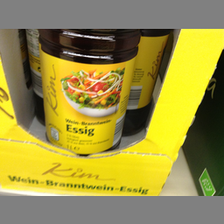vinegar: (37, 30, 139, 153)
